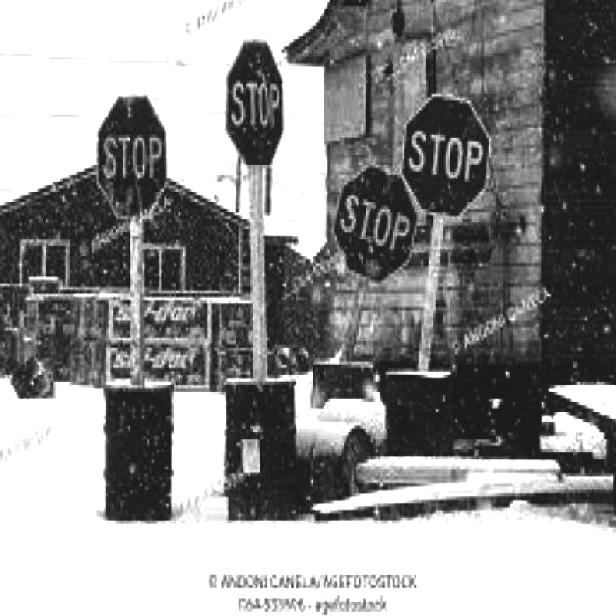stop_sign: (402, 94, 490, 224), (336, 164, 416, 281), (96, 94, 166, 216), (228, 36, 285, 164)
